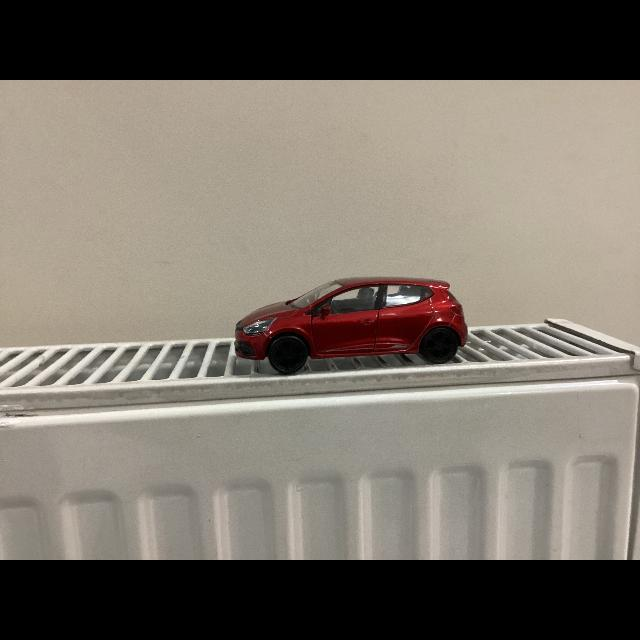Dogru_Jant: (274, 340, 304, 370), (428, 334, 454, 360)
